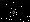person: (10, 8, 19, 18)
